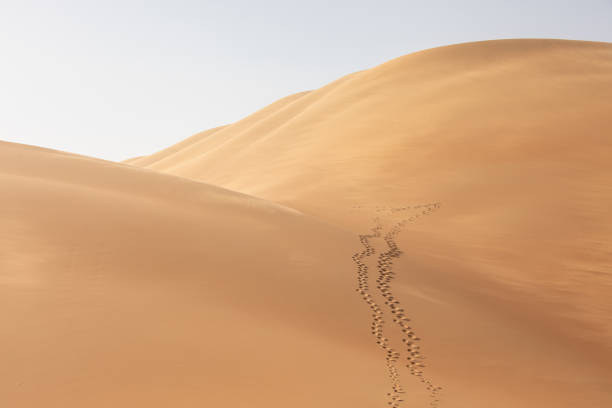animal_foot_print: (352, 202, 440, 407)
